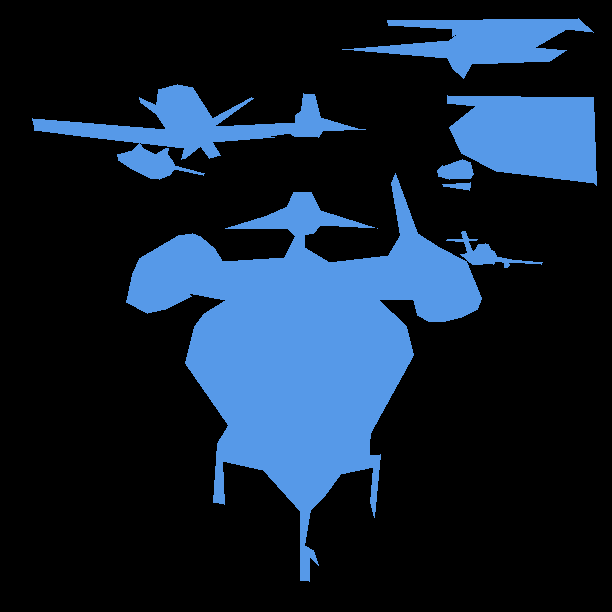Airplane: (126, 173, 481, 581), (32, 84, 365, 160), (342, 18, 594, 78), (447, 95, 596, 185), (446, 231, 543, 267), (117, 143, 205, 179), (437, 159, 474, 190)
